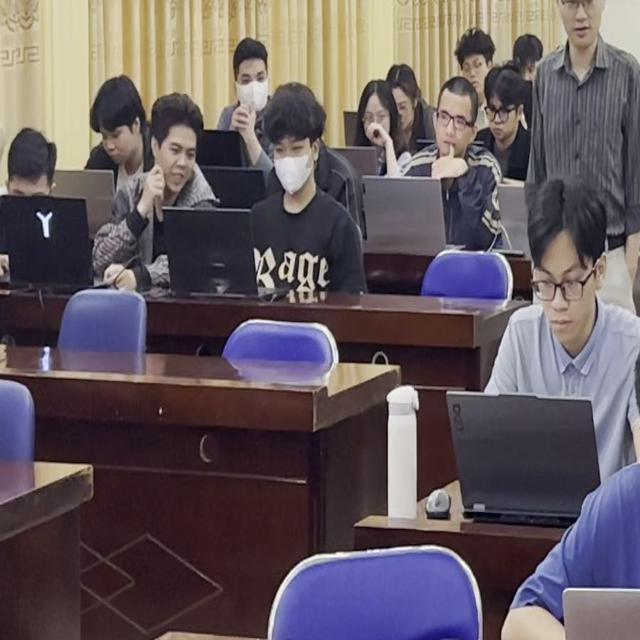Looking away: (522, 179, 619, 363), (264, 83, 337, 208), (140, 97, 211, 195), (480, 55, 532, 156), (94, 81, 152, 167), (230, 33, 277, 120), (386, 64, 426, 144), (356, 77, 397, 151), (450, 24, 500, 80)
Looking forward: (434, 80, 476, 164), (544, 0, 603, 56)
